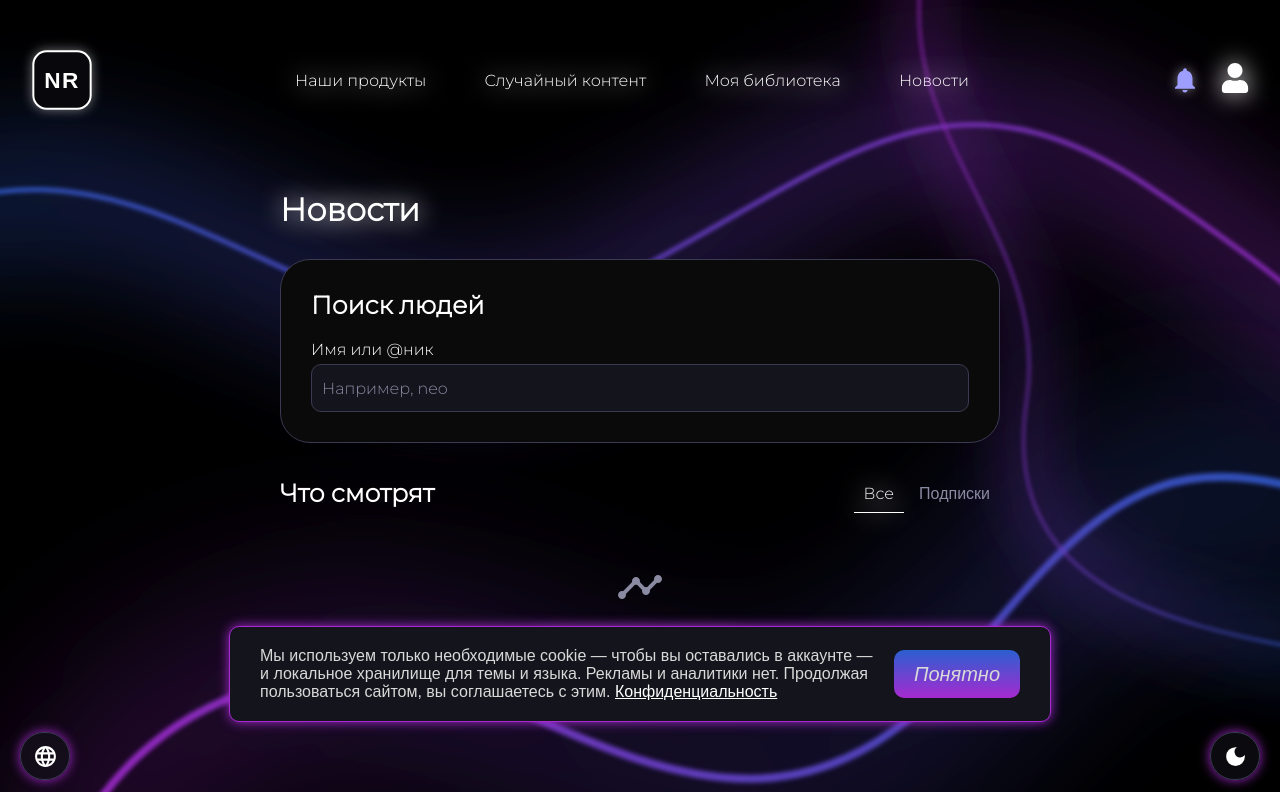
Test case: News page › finds people and follows them from the list
In the search field labelled "Имя или @ник": [640, 388] box x1=311 y1=364 x2=969 y2=412, type "tri"
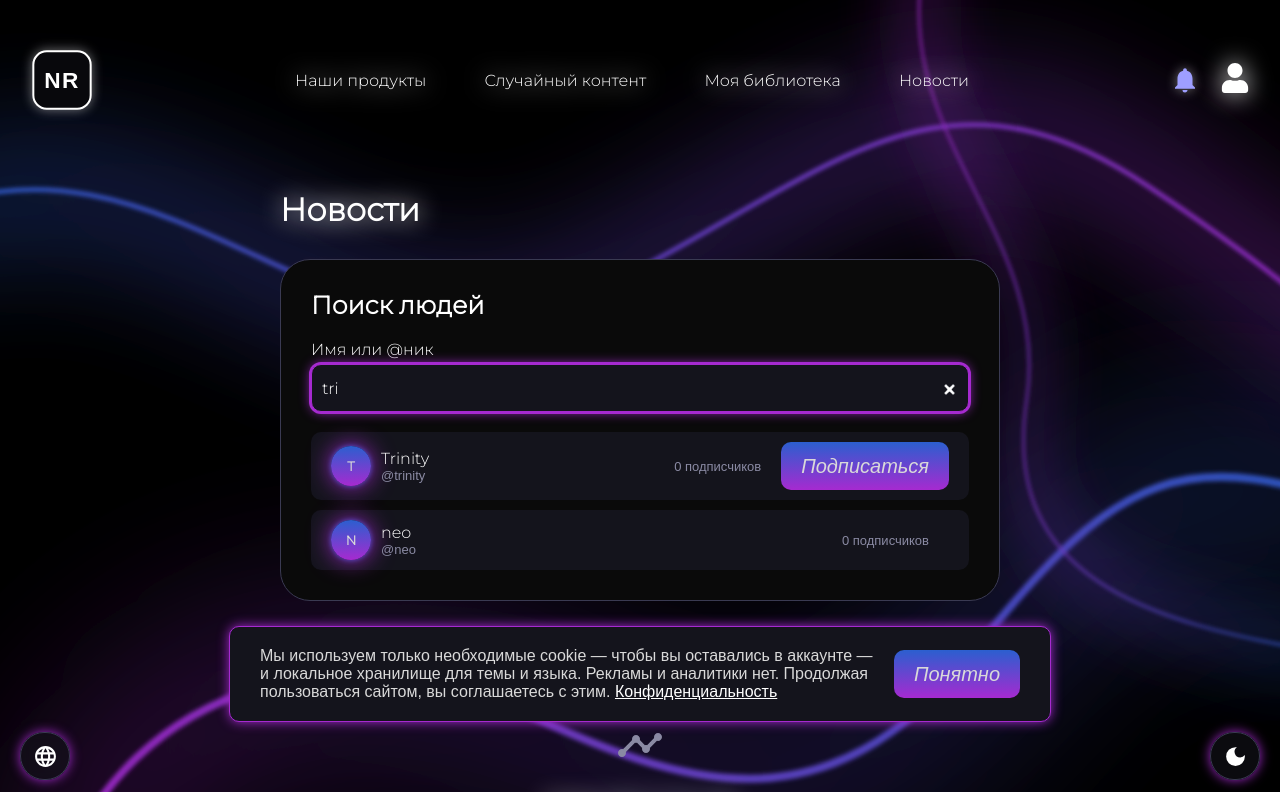
Now the text "0 подписчиков" is shown 2 times, box x1=674 y1=458 x2=761 y2=474; x1=842 y1=532 x2=929 y2=548
Now the number of buttons "Подписаться" is 1
Click the button "Подписаться": [865, 466] box x1=781 y1=442 x2=949 y2=490
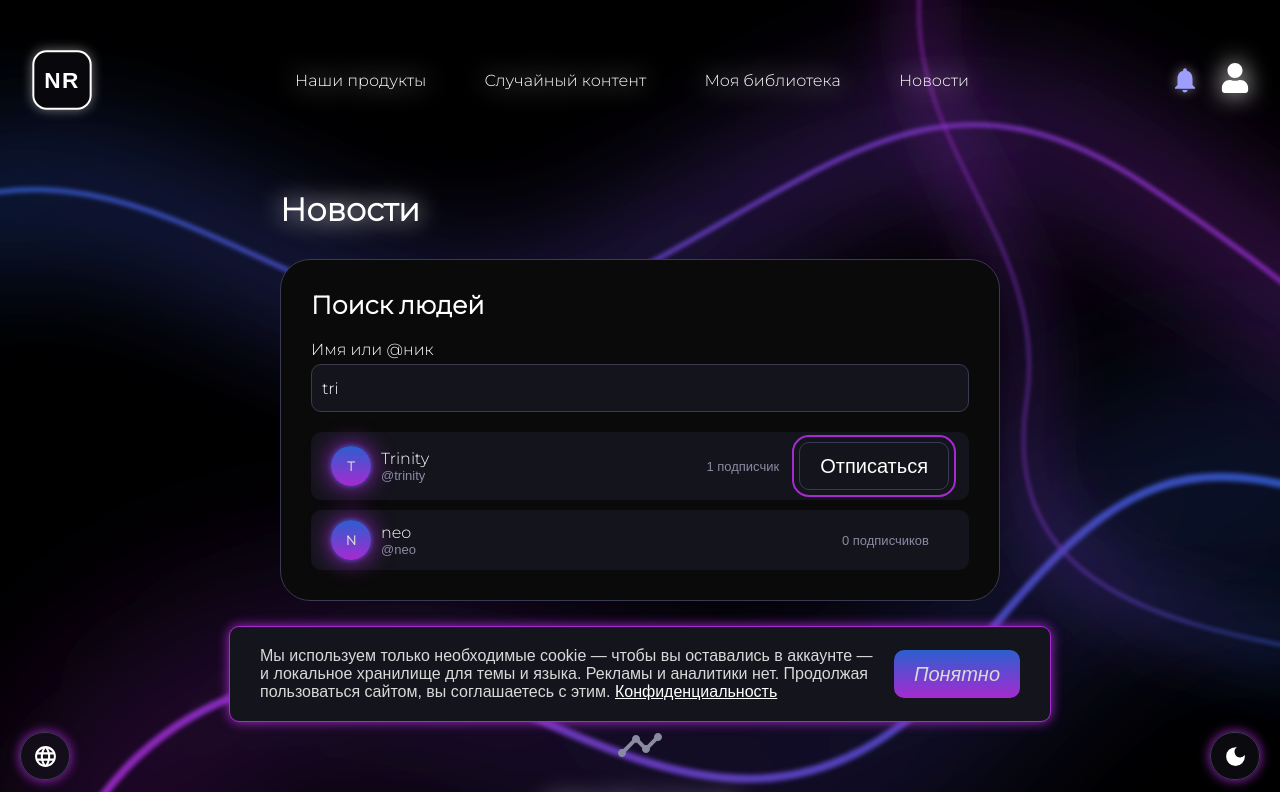
Now the text "1 подписчик" is shown, box x1=706 y1=458 x2=779 y2=474
